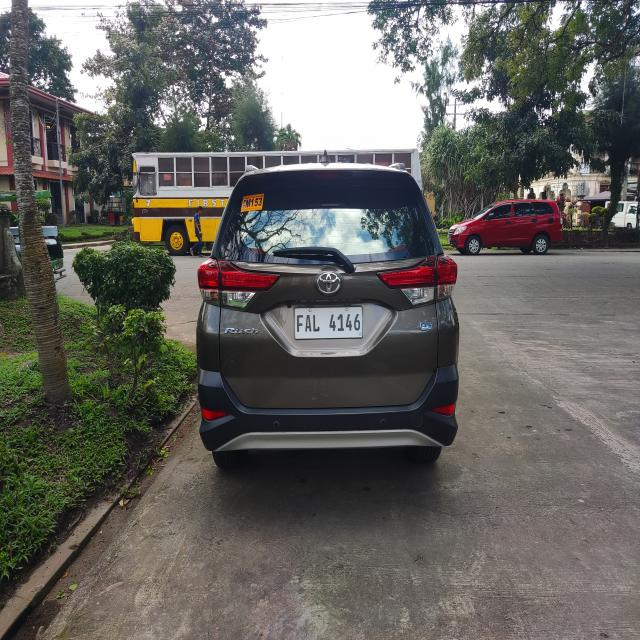plate: (293, 306, 364, 340)
